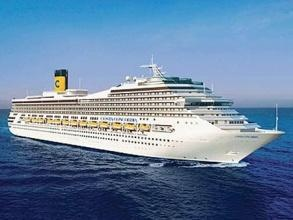youlun: (7, 60, 283, 162)
